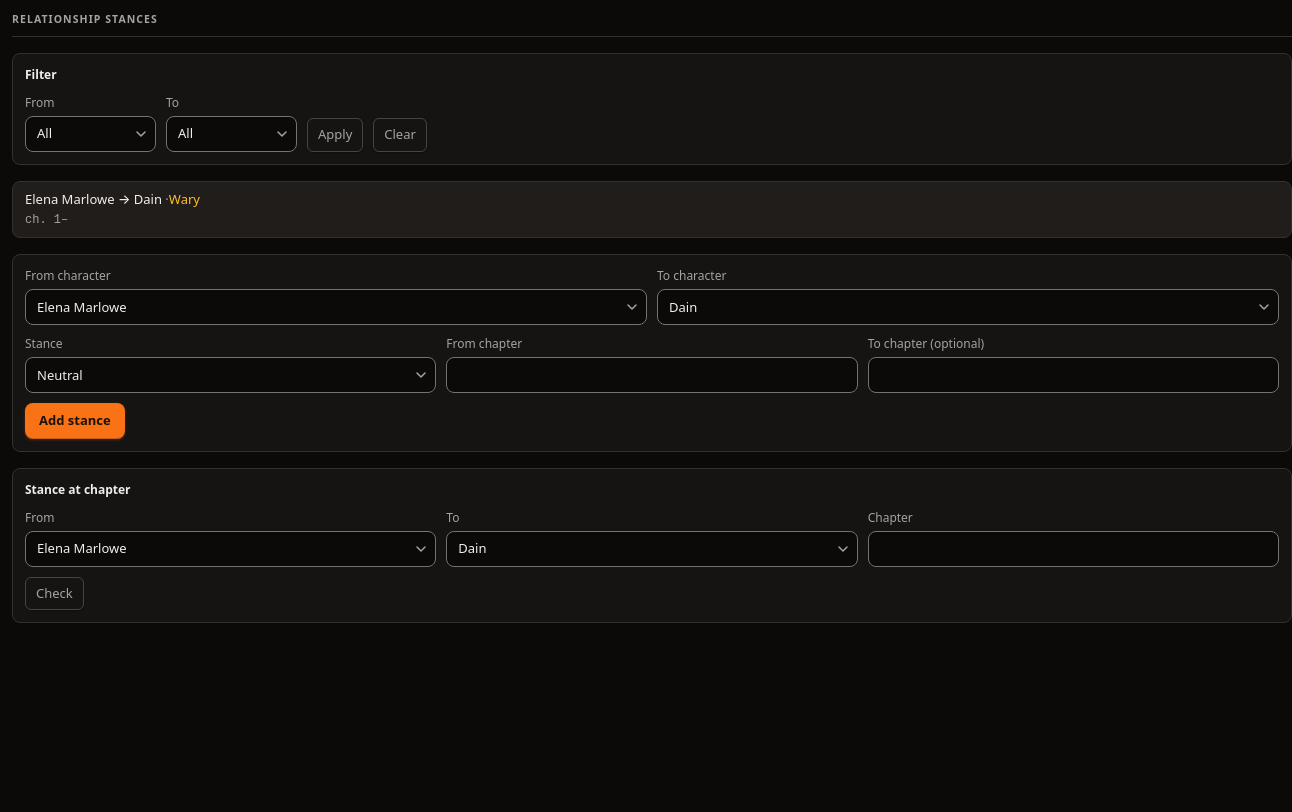
Test: RelationshipStances › looks up the stance at a chapter: hit and miss
Select "Elena Marlowe" in the dropdown with test id "stance-at-from-input": (231, 549) x1=25 y1=531 x2=436 y2=567
Select "Dain" in the dropdown with test id "stance-at-to-input": (652, 549) x1=446 y1=531 x2=858 y2=567
In the number field with test id "stance-at-chapter-input": (1073, 549) x1=868 y1=531 x2=1279 y2=567, type "5"
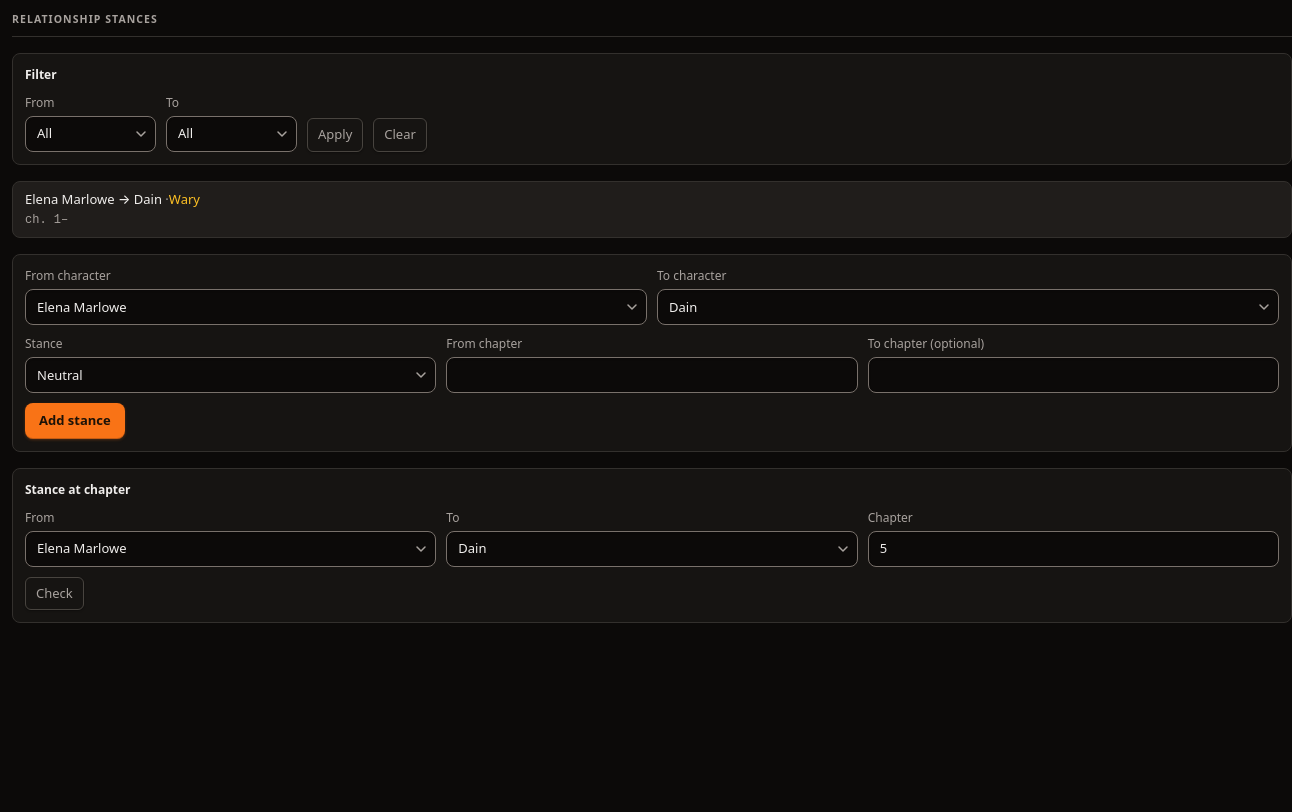
Submit the form with test id "stance-at-form", box x1=12 y1=468 x2=1291 y2=623
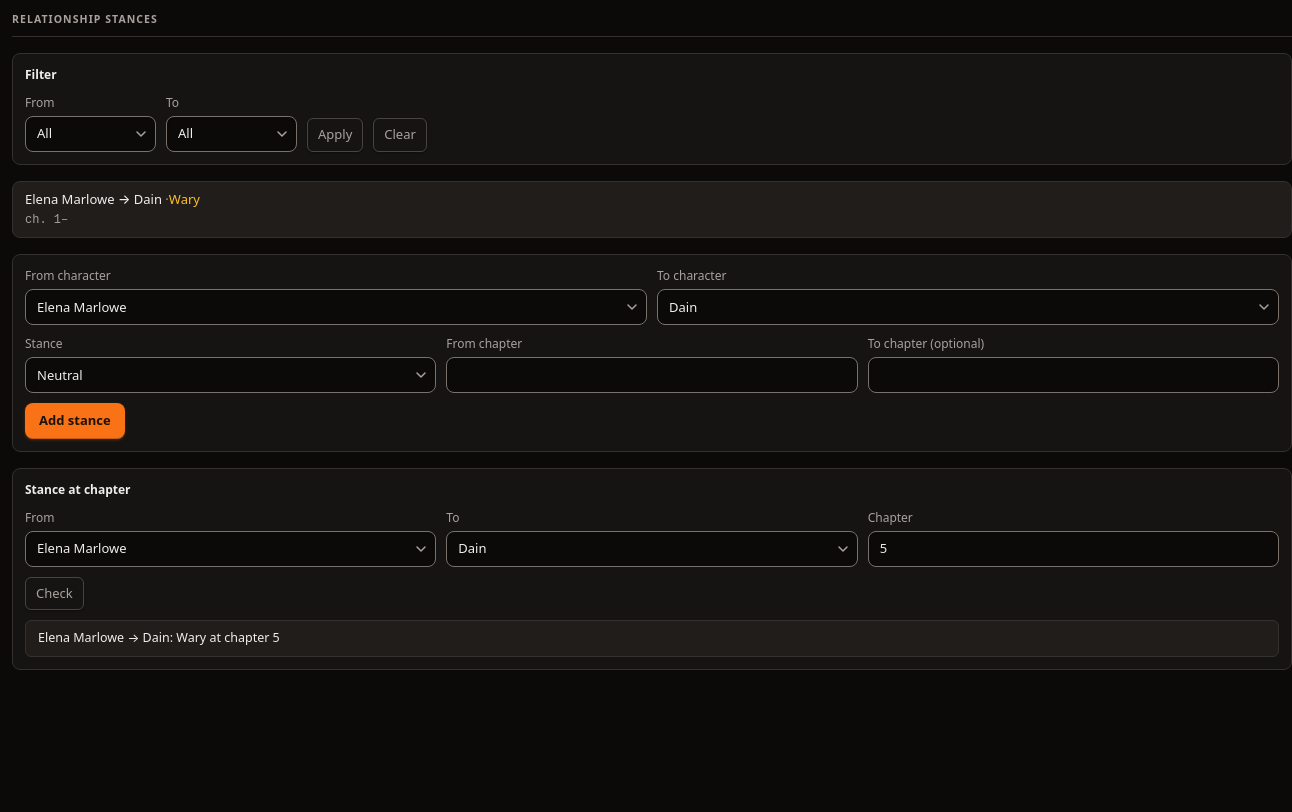
Now the element with test id "stance-at-result" shows "at chapter 5", box x1=38 y1=629 x2=280 y2=646
Replace the text in the number field with test id "stance-at-chapter-input" with "50": (1073, 549) x1=868 y1=531 x2=1279 y2=567
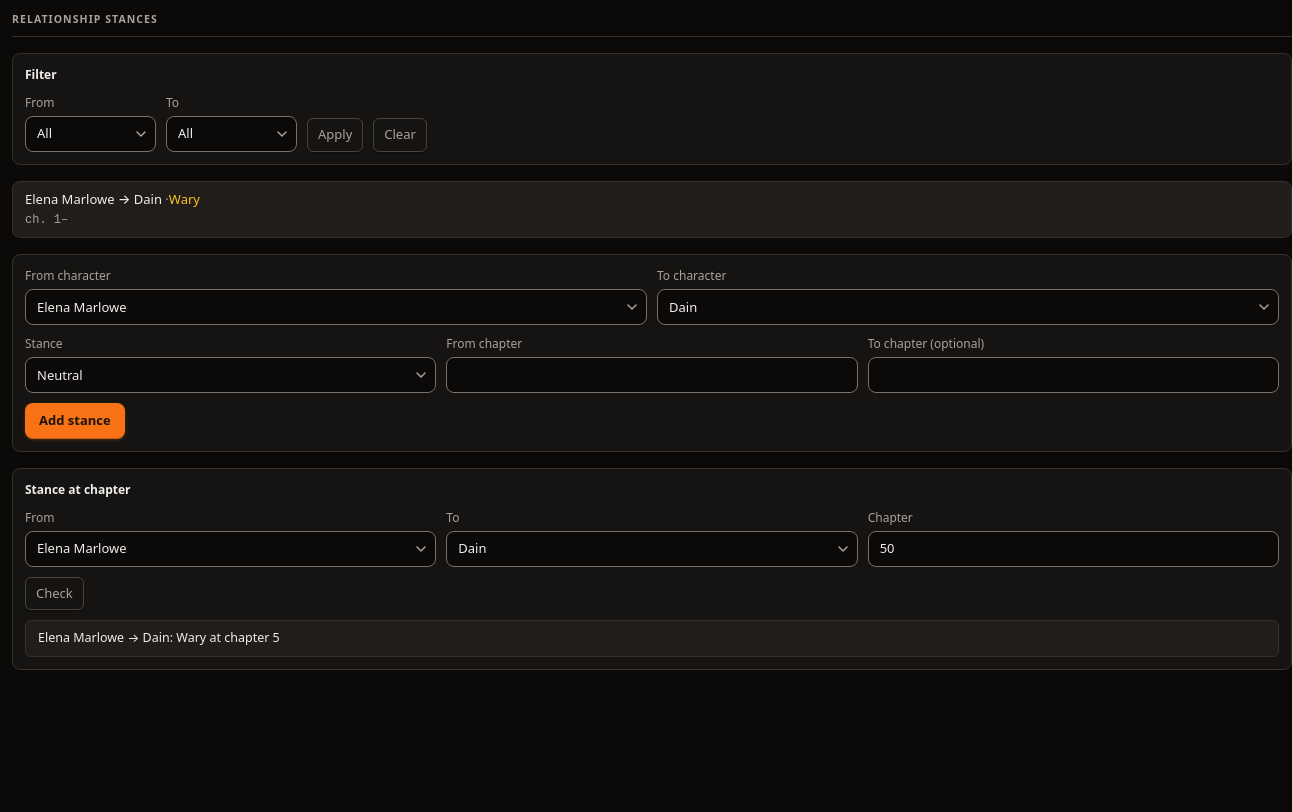
Submit the form with test id "stance-at-form", box x1=12 y1=468 x2=1291 y2=670
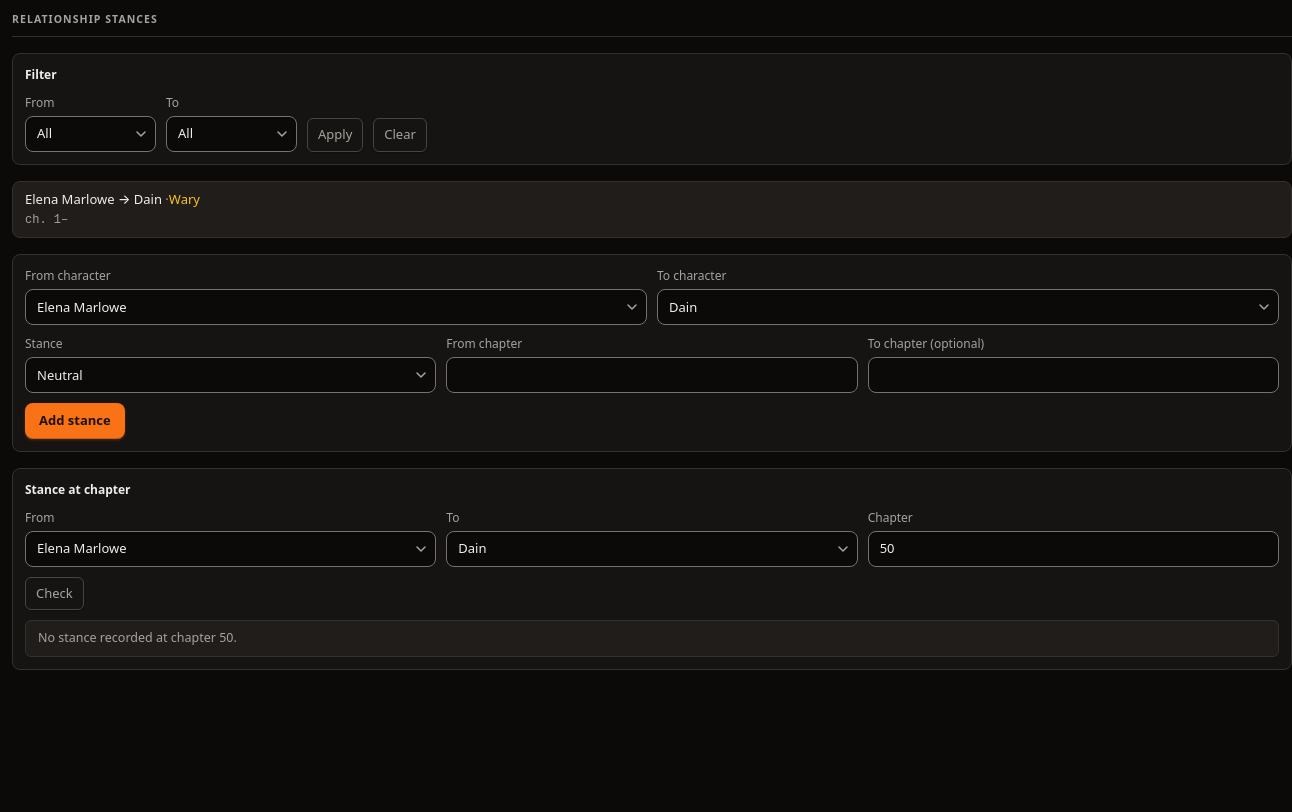
Now the element with test id "stance-at-result" shows "No stance recorded at chapter", box x1=38 y1=629 x2=237 y2=646
